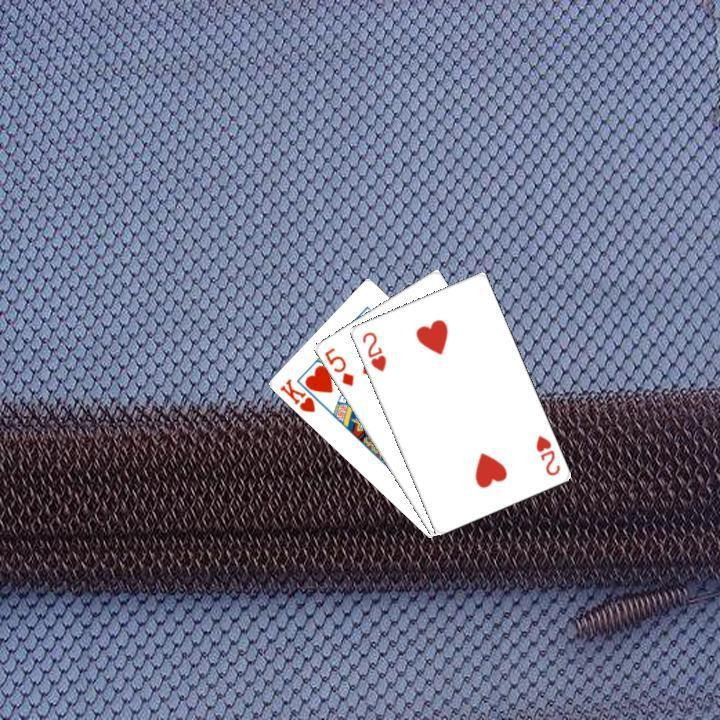2: (531, 430, 562, 478), (357, 327, 388, 374)
5: (320, 343, 356, 388)
K: (275, 374, 317, 415)
